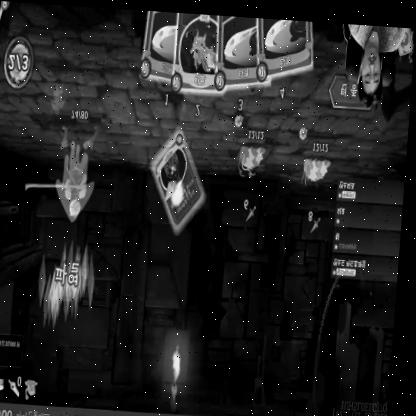streamer: (336, 18, 414, 105)
